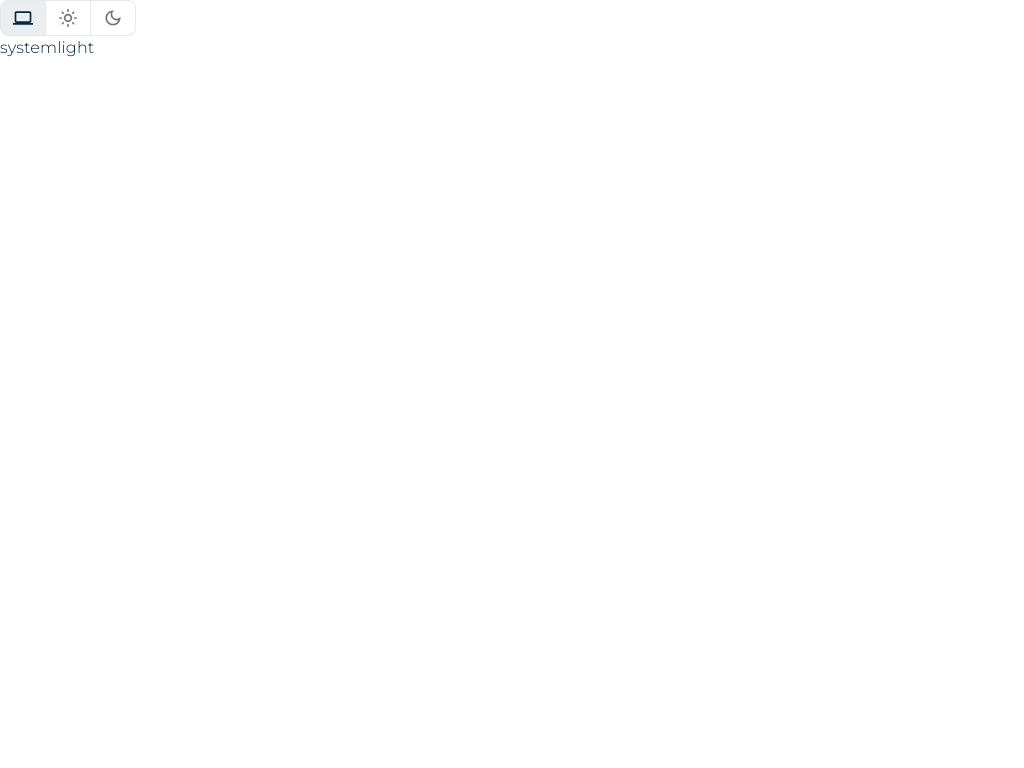
Scenario: ThemeToggle › updates mode to dark when dark is selected
Click the button named "Dark" at (113, 18), box [90,0,136,36]
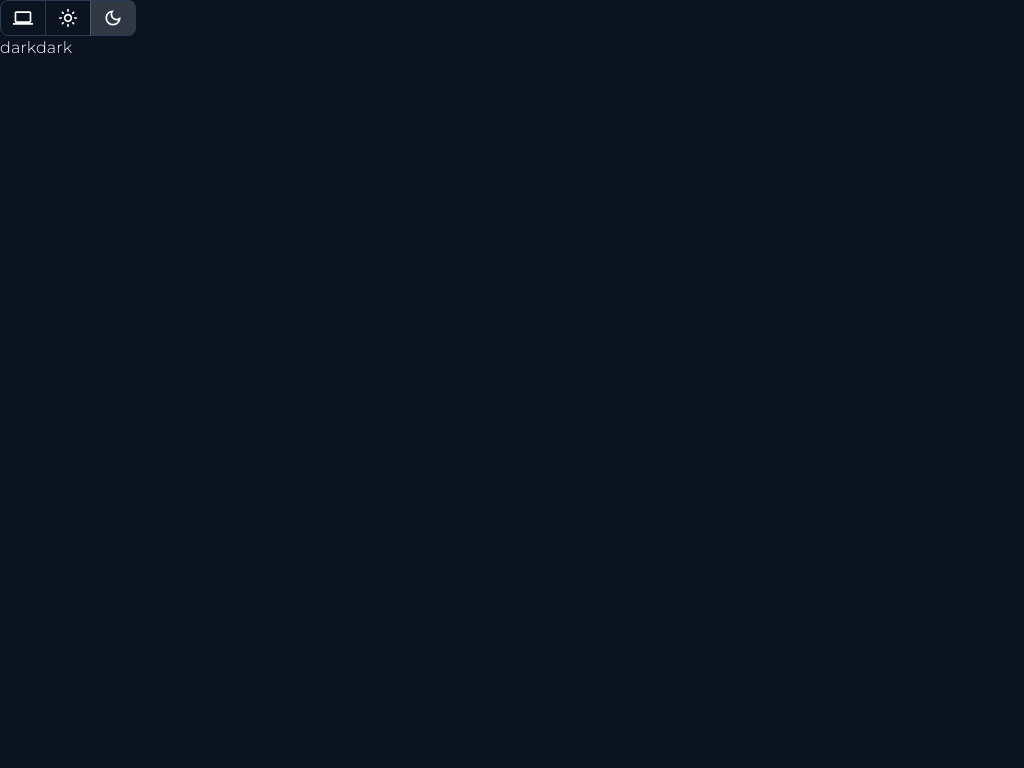
Now the text with test id "mode" reads "dark", box [0,38,36,57]
Now the text with test id "resolved" reads "dark", box [36,38,72,57]
